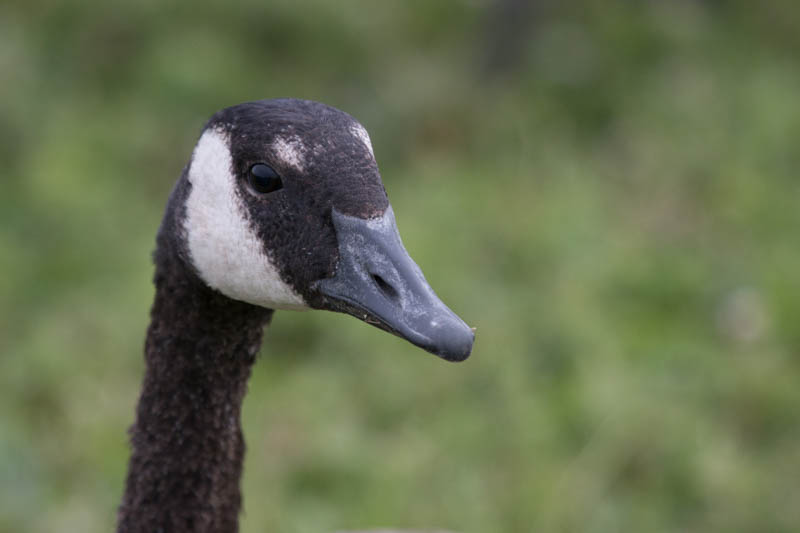goose-head: (155, 97, 476, 366)
